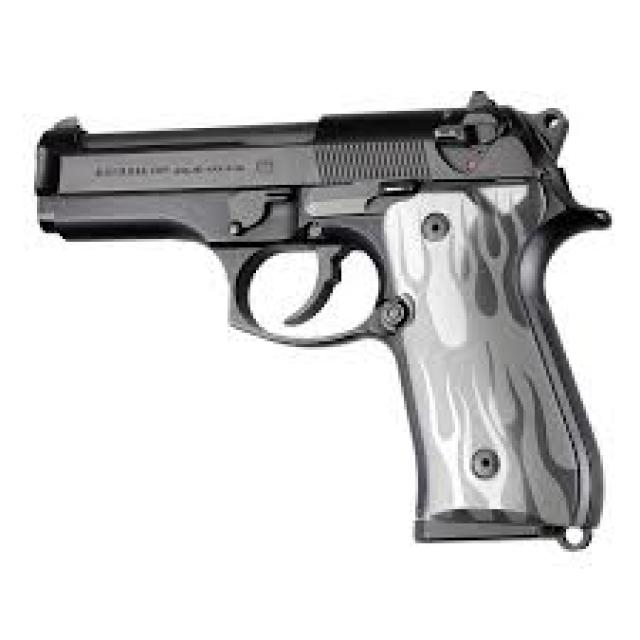pistol: (32, 78, 620, 560)
